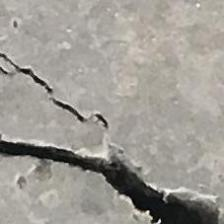Crack: (0, 52, 224, 224)
